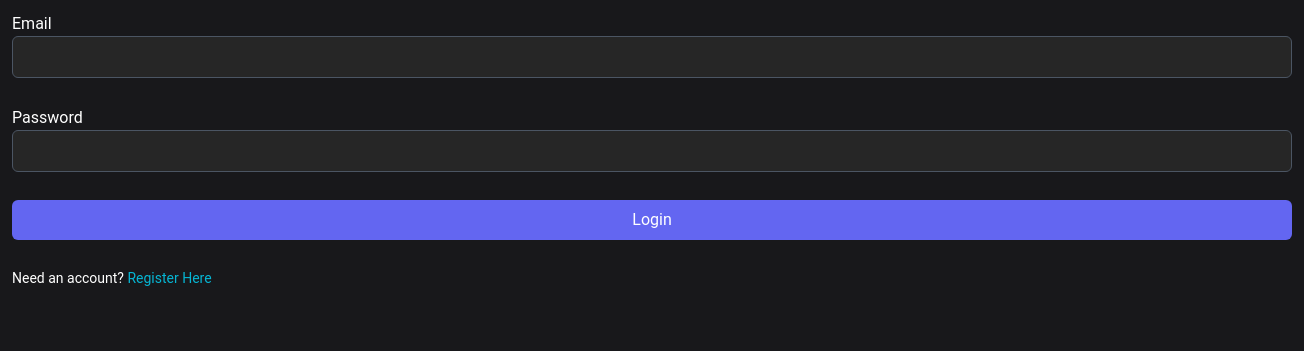
SignInForm › shows email error when server responds with email error
Type "nonexistent@example.com" into the field labelled "Email". click: (652, 57)
box: [12,36,1292,78]
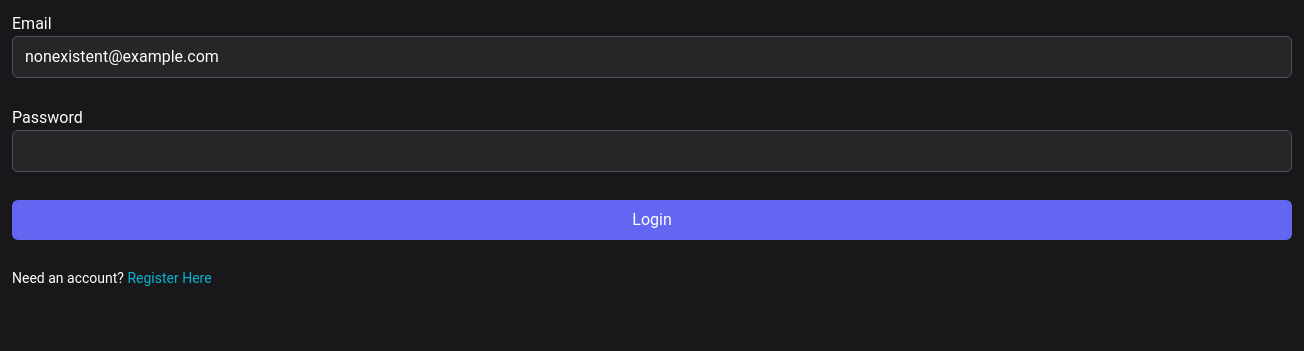
Type "password123" into the password field labelled "Password". click: (652, 151)
box: [12,130,1292,172]
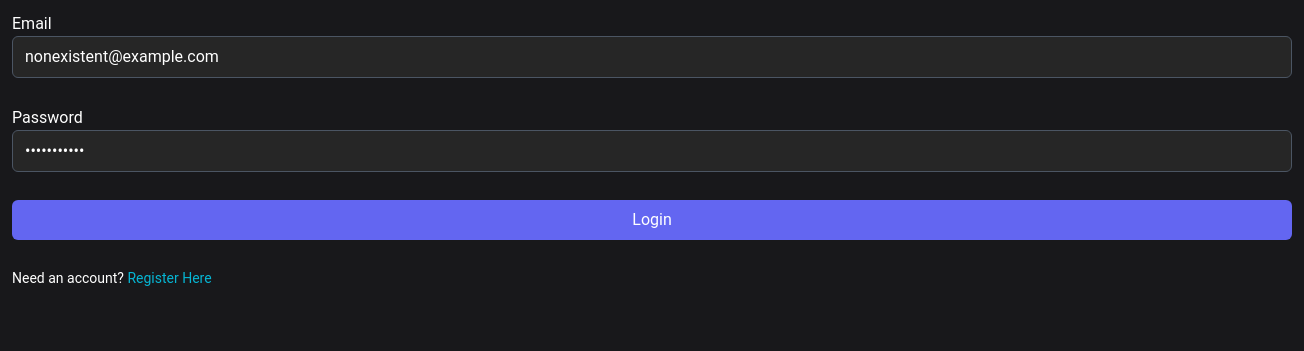
Click the button with test id "button-sigin". click: (652, 220)
box: [12,200,1292,240]
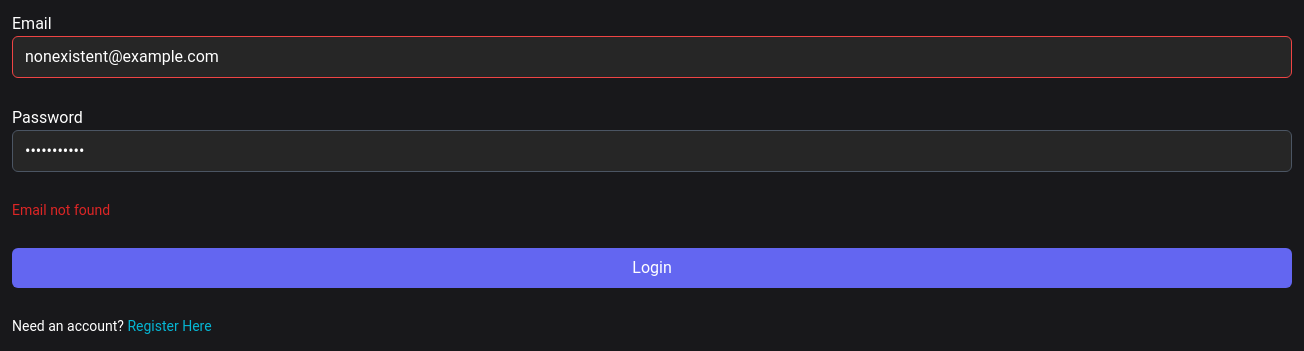
Check: the text "Email not found" is shown, box [12,202,110,218]
